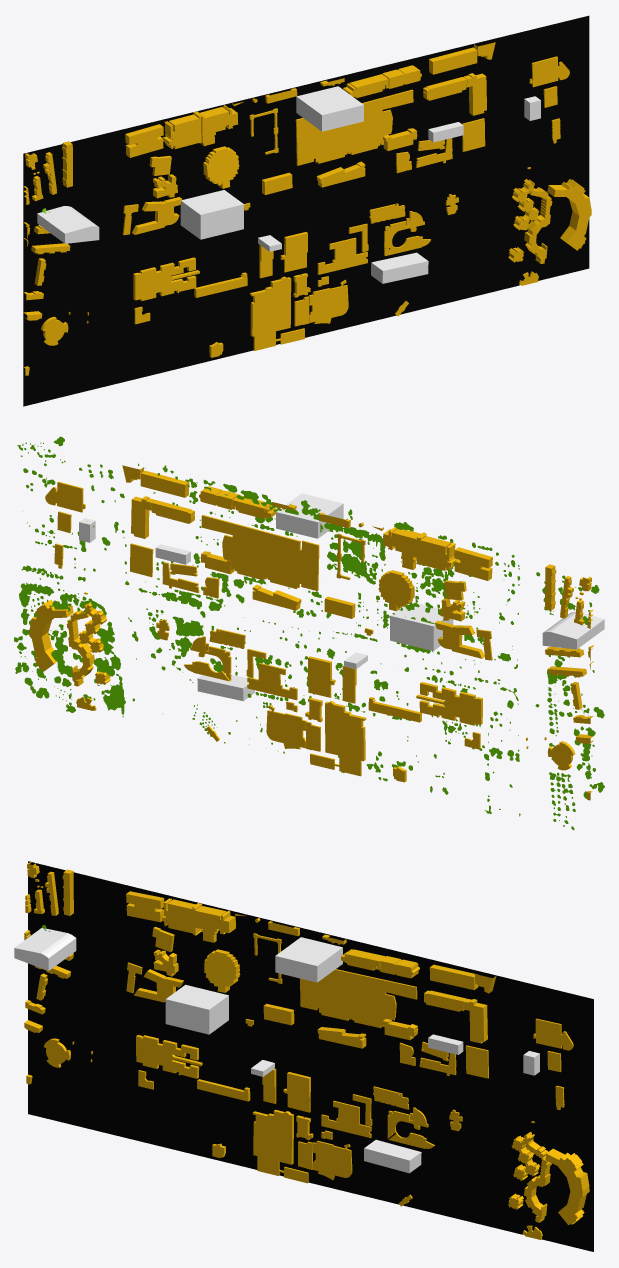
File: new_high_buildings_01.glb
The picture shows the model from 3 angles, top to bottom: view 1: azimuth 30°, elevation 25°; view 2: azimuth 150°, elevation 25°; view 3: azimuth 330°, elevation 25°; orthographic projection.
Visible parts, largest first — view 1: Layer 04, existing_building - Copy, new buildings; view 2: existing_building - Copy, treesurface, new buildings; view 3: Layer 04, existing_building - Copy, new buildings.
Boxes of the visible parts, <box> form: Layer 04: <box>23,15,589,406</box>; existing_building - Copy: <box>23,42,591,375</box>; new buildings: <box>37,86,540,283</box>; existing_building - Copy: <box>29,465,593,800</box>; treesurface: <box>14,436,604,830</box>; new buildings: <box>79,493,604,701</box>; Layer 04: <box>28,861,593,1251</box>; existing_building - Copy: <box>24,862,589,1239</box>; new buildings: <box>14,928,539,1173</box>.
Bounding box in the file's own units: 1035 × 458 × 84.18.
